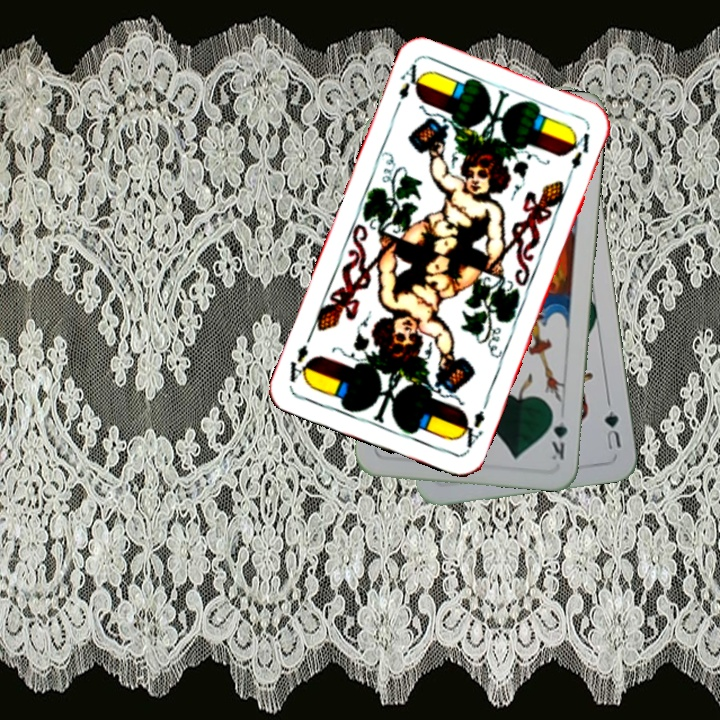EA: (390, 59, 427, 115), (455, 406, 488, 454)
GK: (547, 405, 571, 463)
GU: (600, 397, 624, 452)
